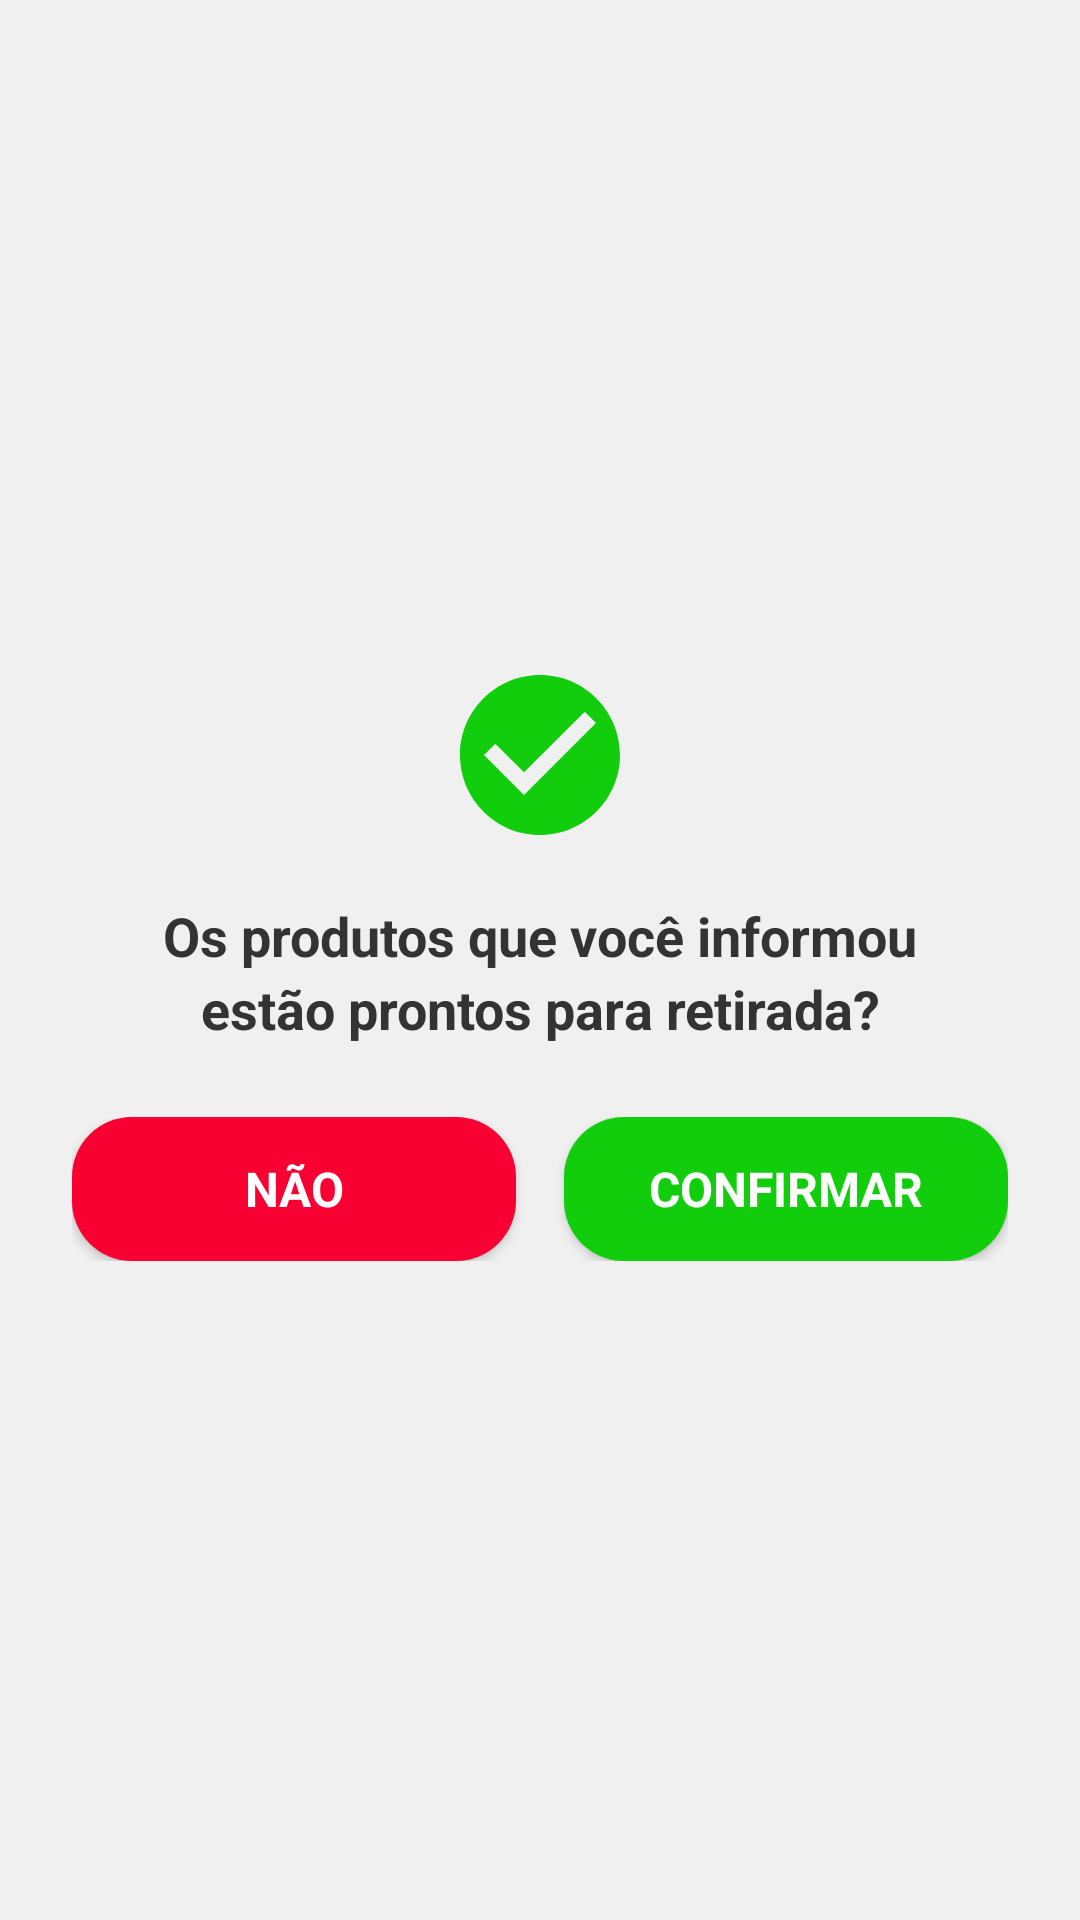

Where to tap for icons on this 1080px×1920px app screen, as (x=x, y=y):
check confirm: (x=540, y=755)
